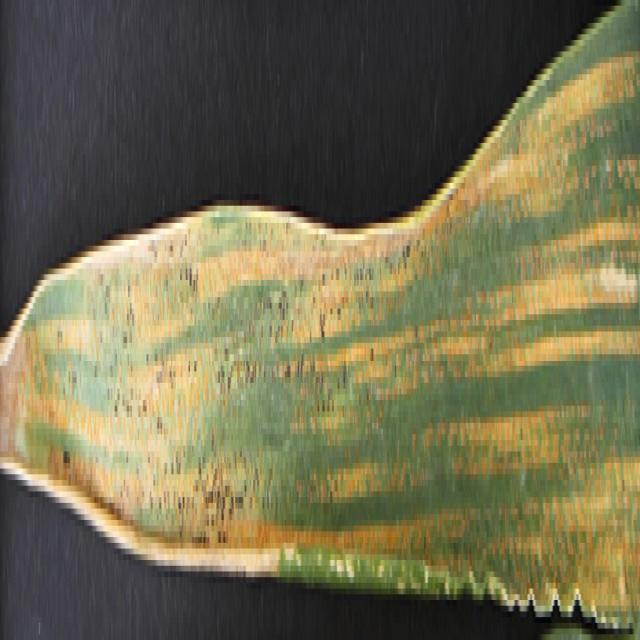leaf rust: (26, 57, 640, 605)
